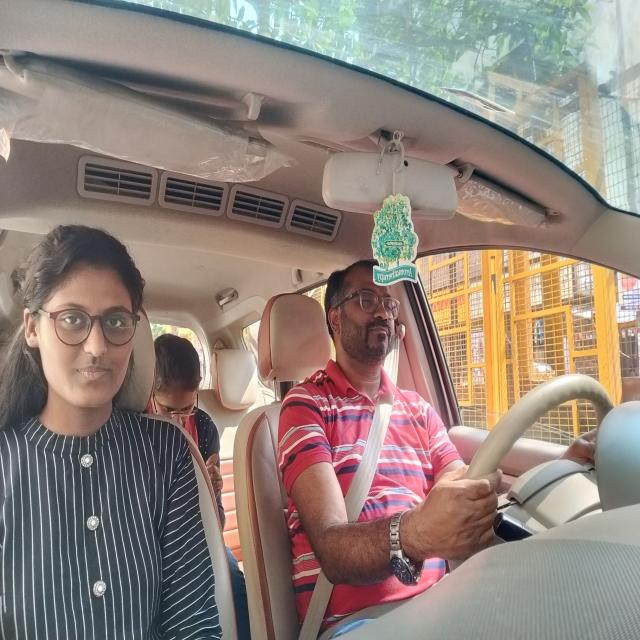drowsy: (321, 262, 405, 374)
person: (22, 220, 148, 418), (152, 339, 206, 433)
